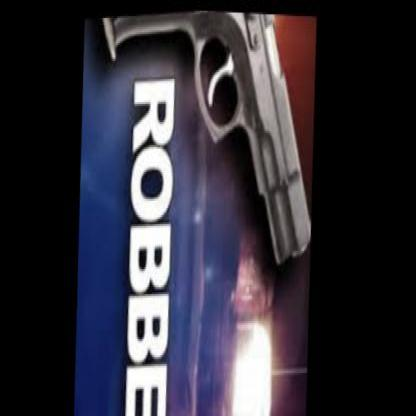pistol: (79, 4, 327, 280)
